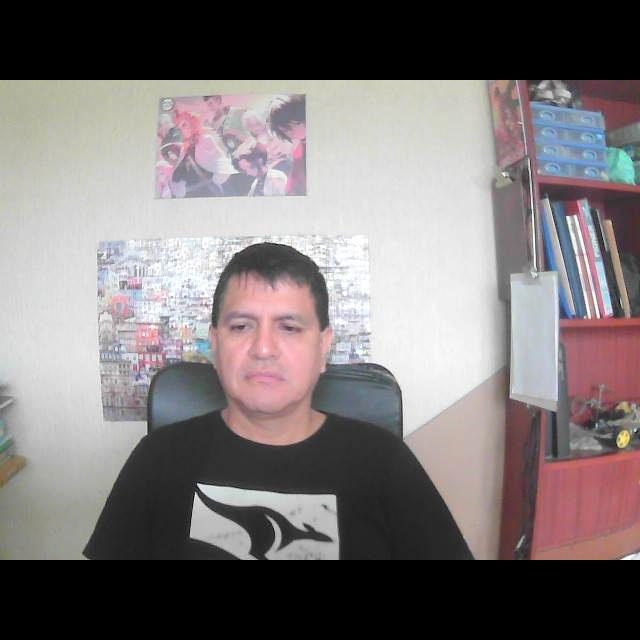cesar: (178, 232, 356, 452)
